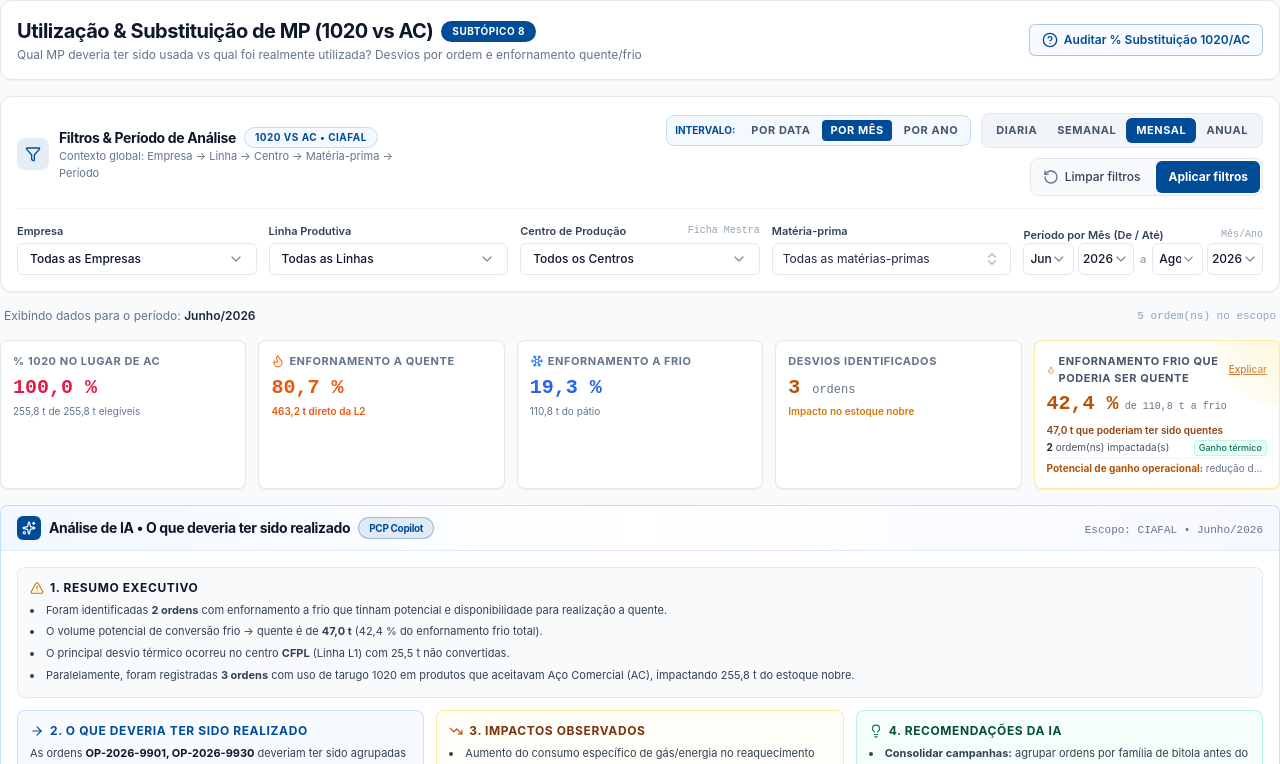
Suíte de Aceitação: Evolução Utilização e Substituição de MP - Potencial Térmico e IA › Cenário 4: combinação sem registros exibe estados vazios organizados sem falha na página
Note: Altera data para período futuro sem registros
Click the button with test id "period-mode-data": point(781, 130) 743,120 -> 818,140
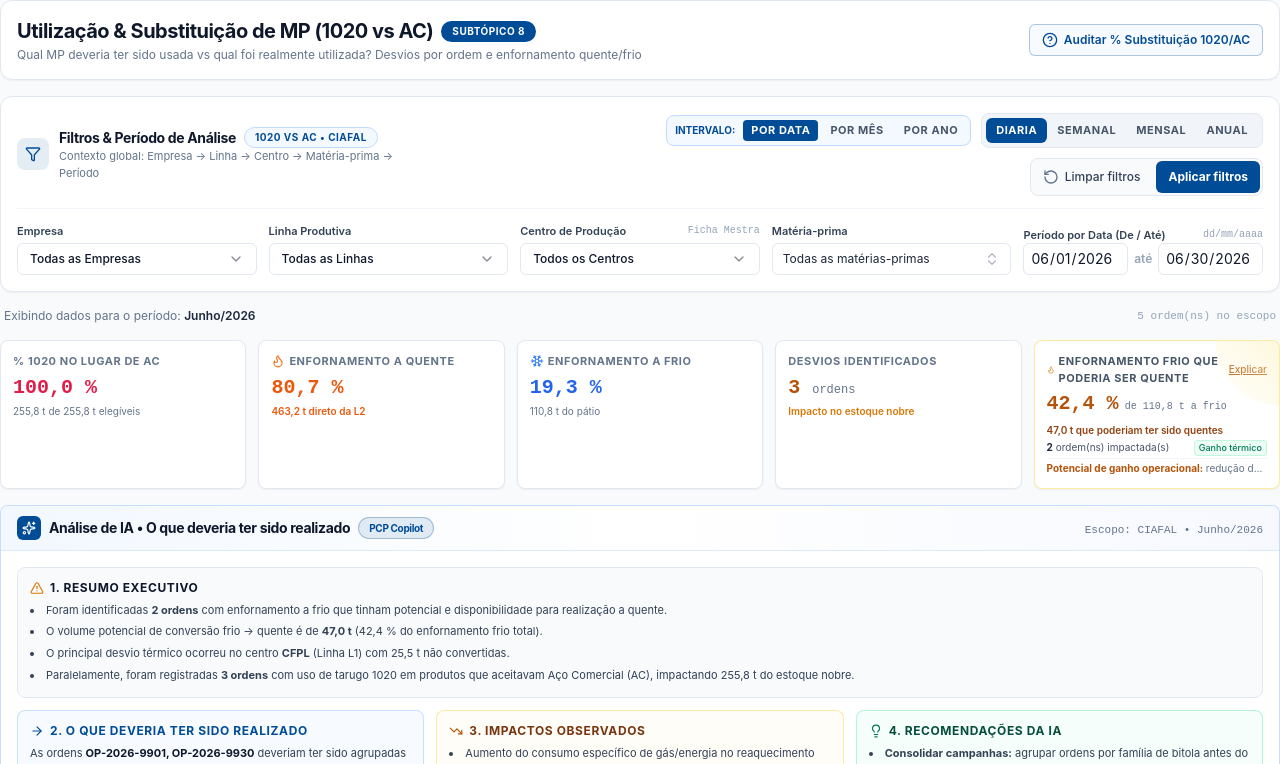
In the date field with test id "filter-period-date-from": point(1076, 259) 1023,243 -> 1128,275, type "2029-01-01"
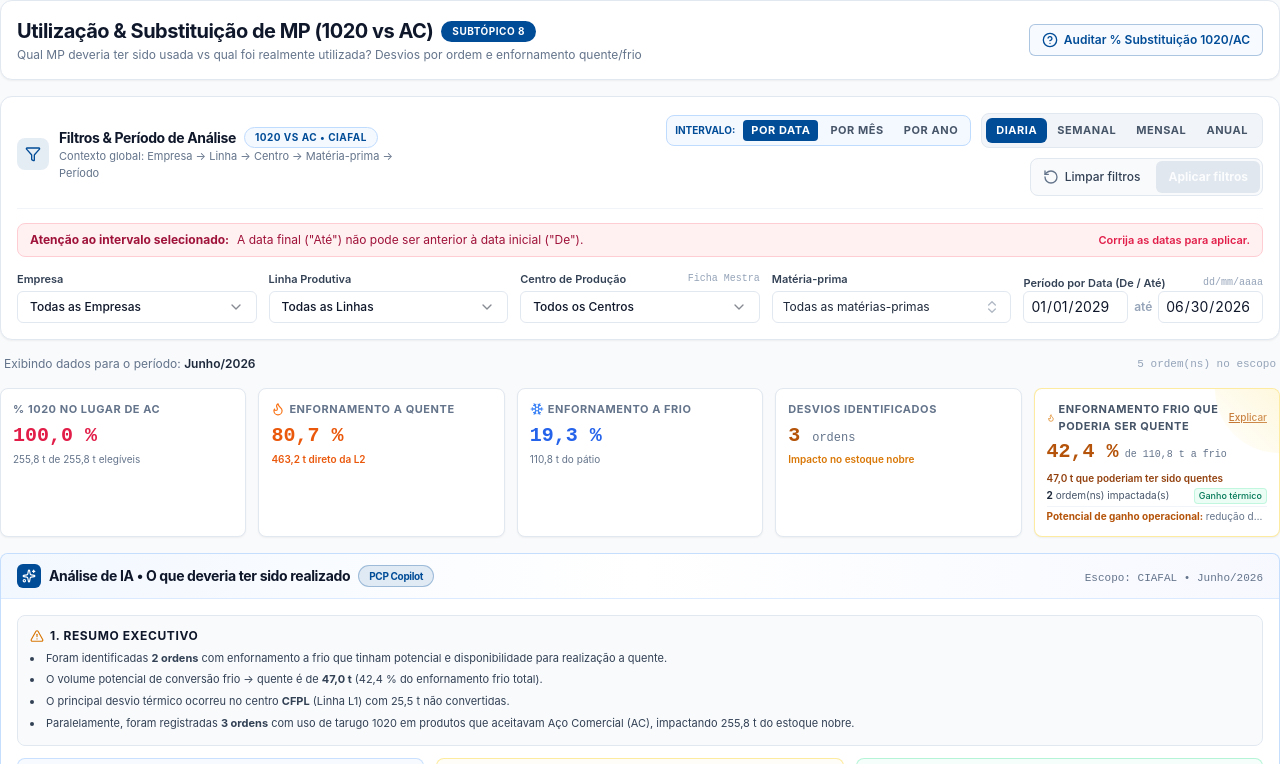
In the date field with test id "filter-period-date-to": point(1211, 307) 1158,291 -> 1263,323, type "2029-01-02"
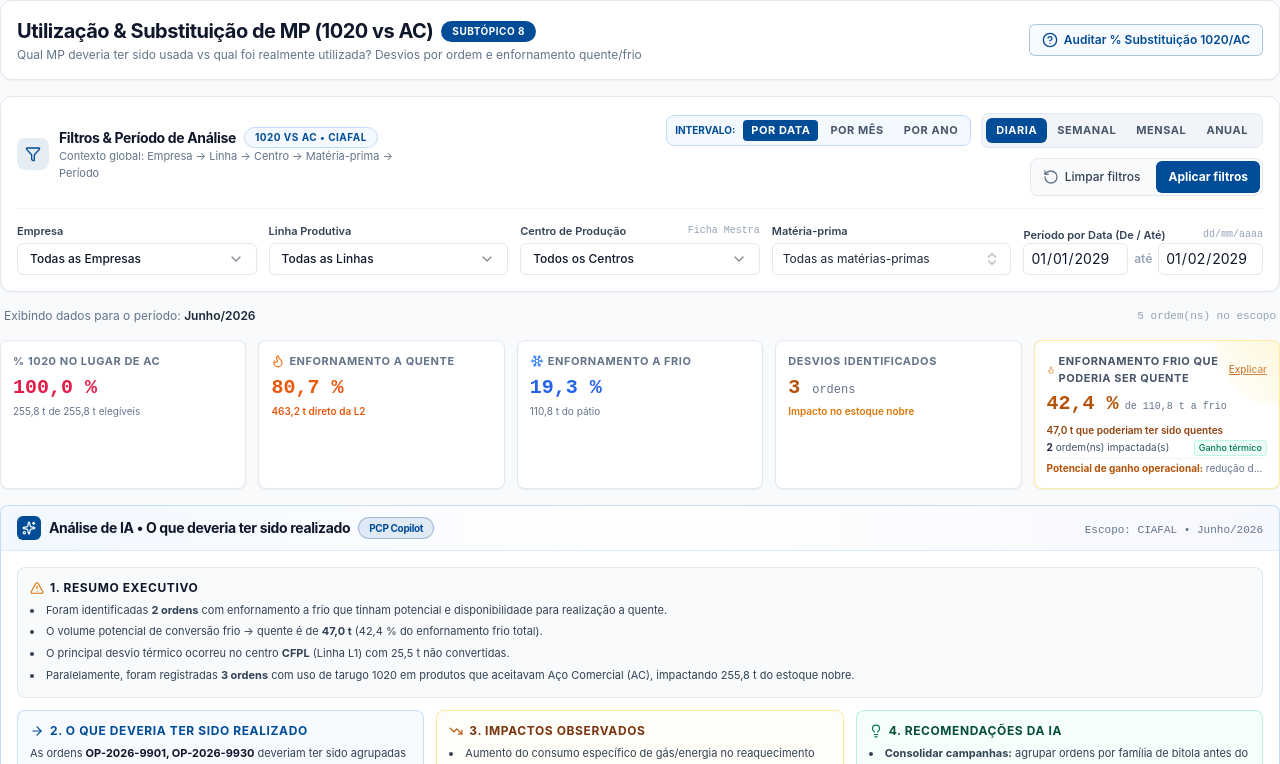
Click the button "Aplicar filtros": point(1208, 176) 1156,160 -> 1260,192
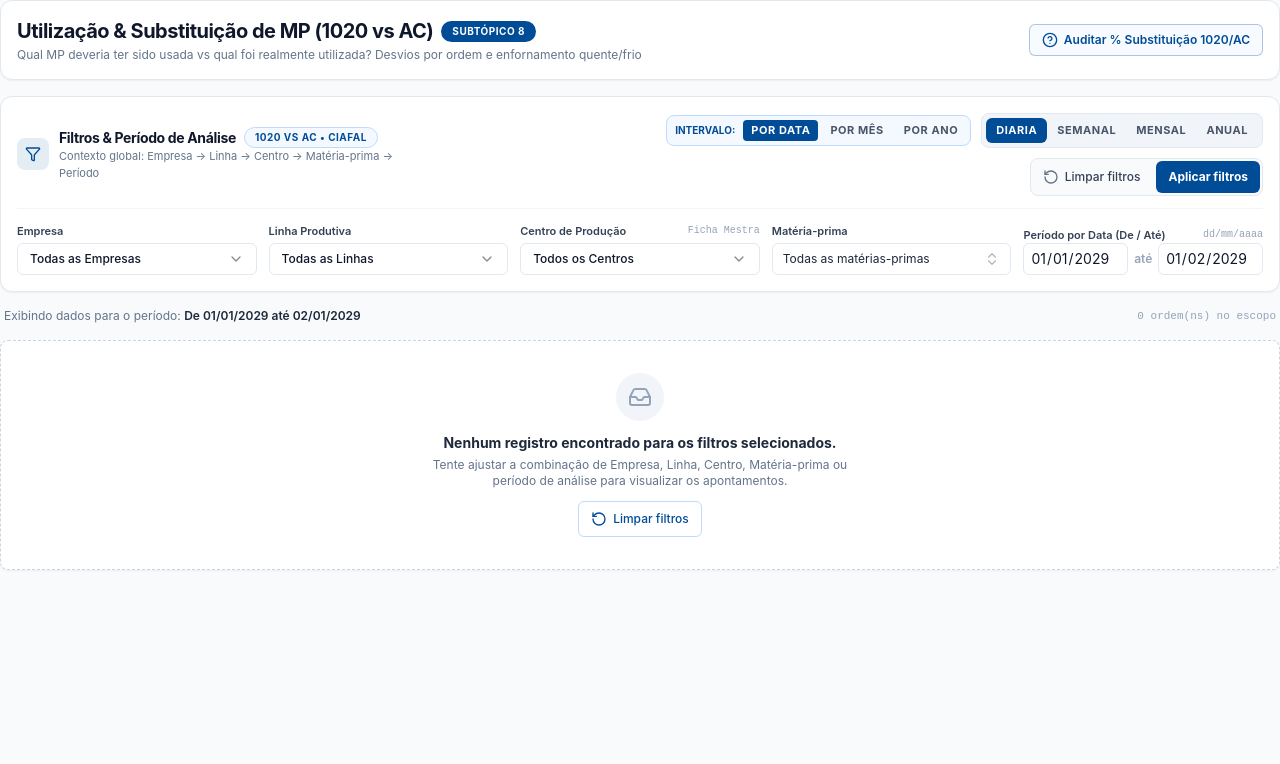
Expected: the 1st button "Limpar filtros" is shown, 1033,160 -> 1150,192
Expected: the heading "Nenhum registro encontrado para os filtros selecionados." is shown, 416,433 -> 864,453
